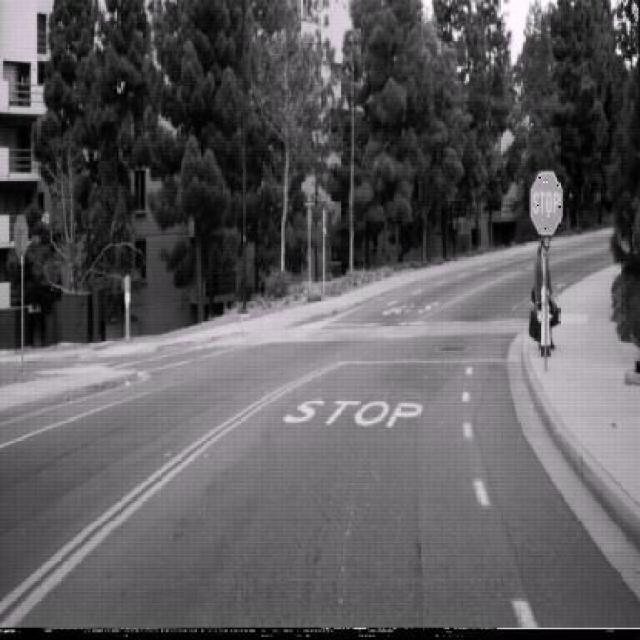stop: (531, 170, 563, 236)
